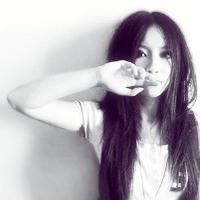face: (128, 25, 175, 98)
